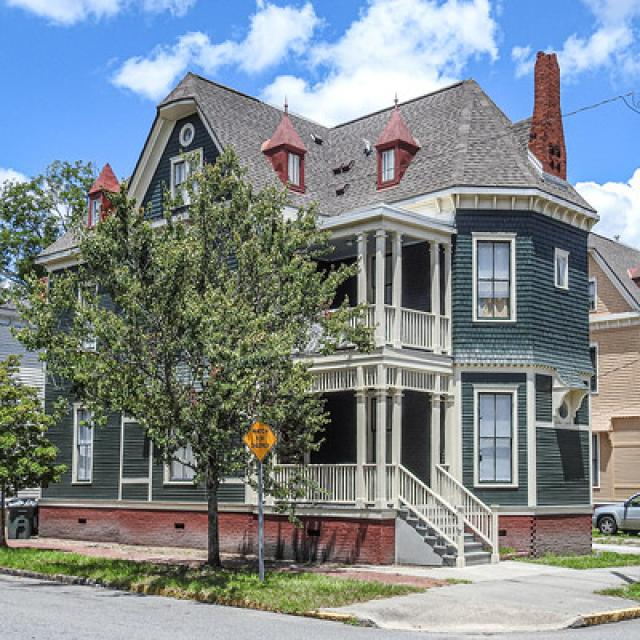building: (26, 66, 598, 571)
